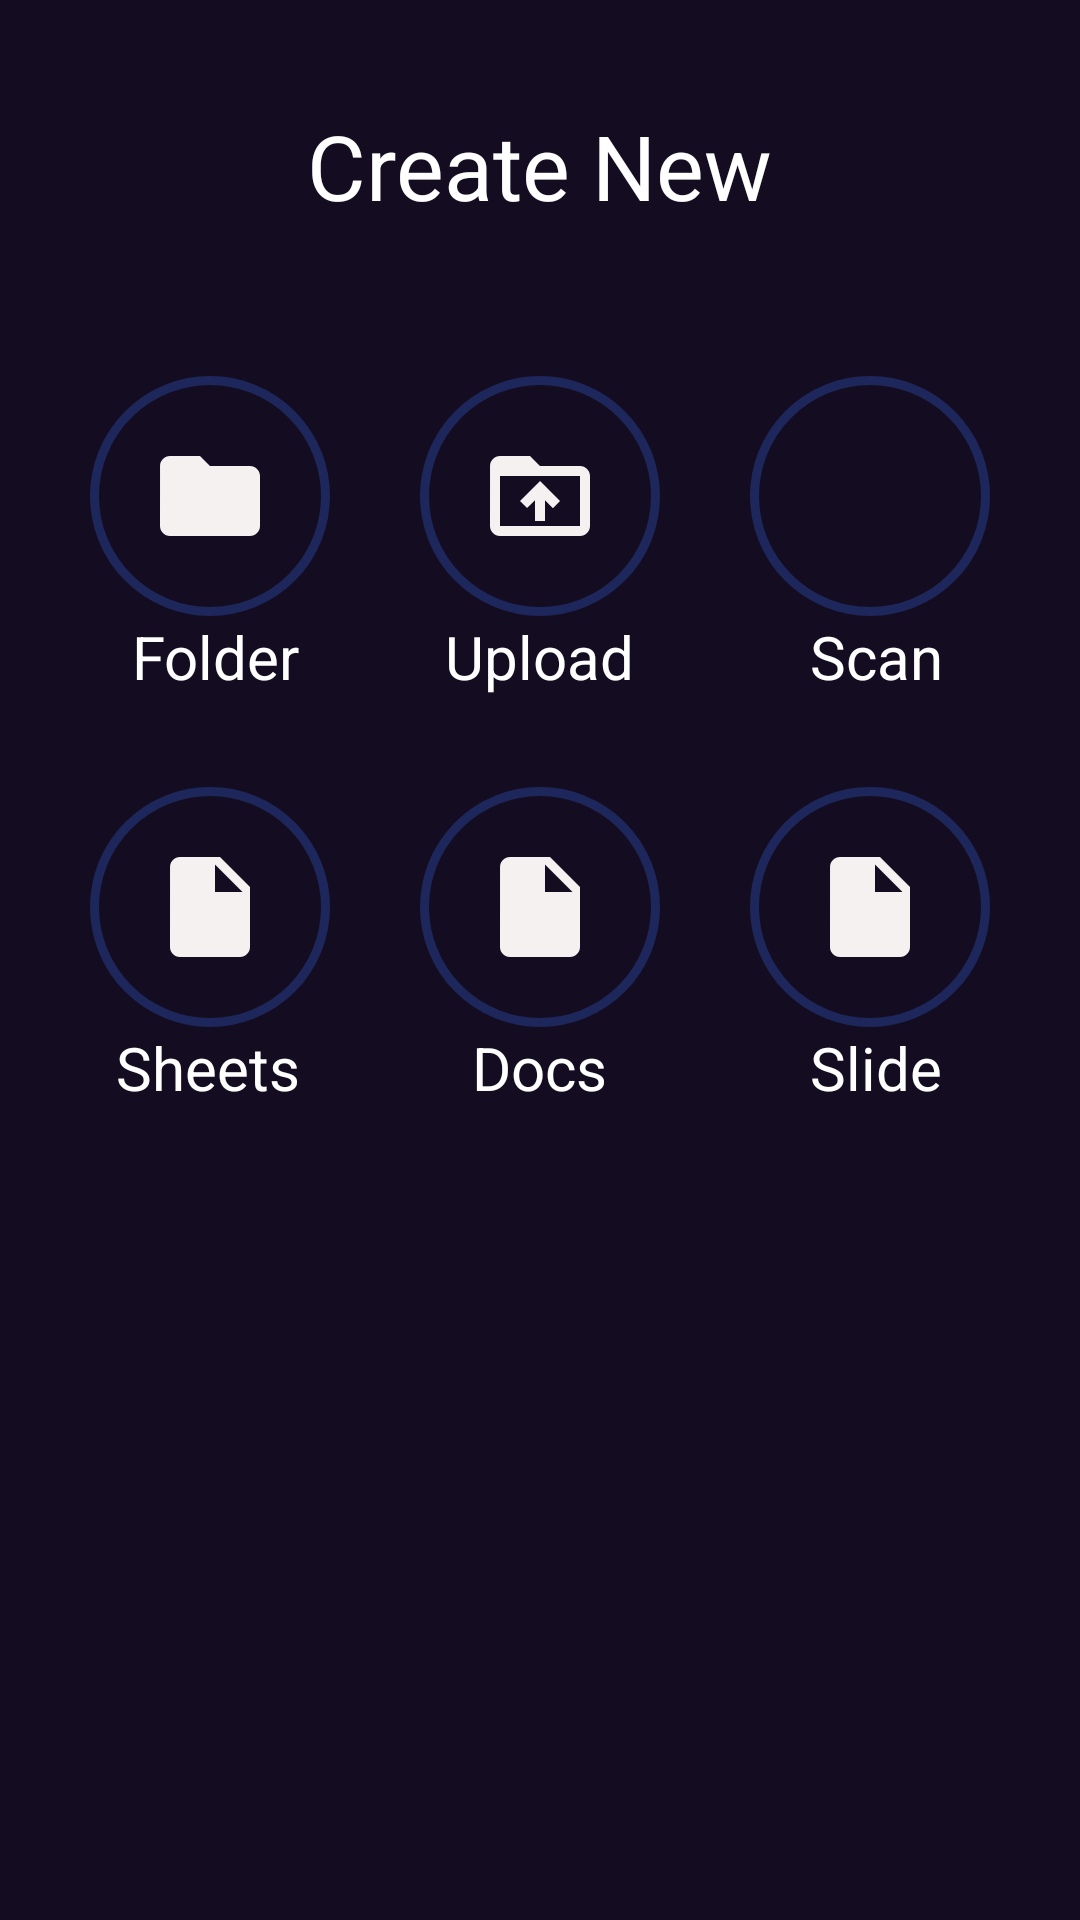

Named icons in this screenshot (1080×1920) and their bounding boxes, (x1, y1, x2, y2):
file: (90, 787, 330, 1027), (420, 787, 660, 1027), (750, 787, 990, 1027)
